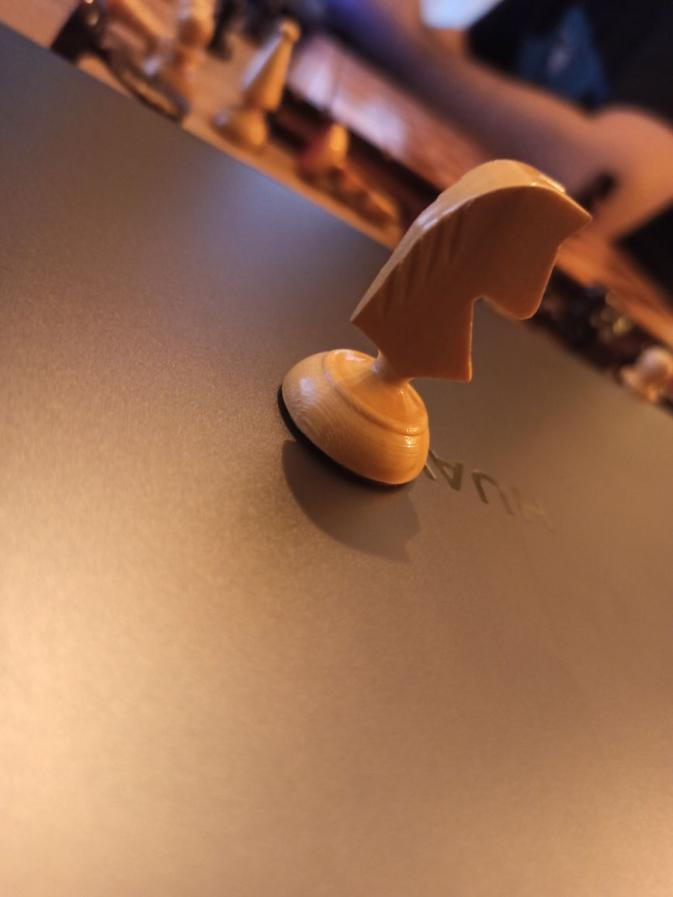wknight: (277, 159, 597, 491)
